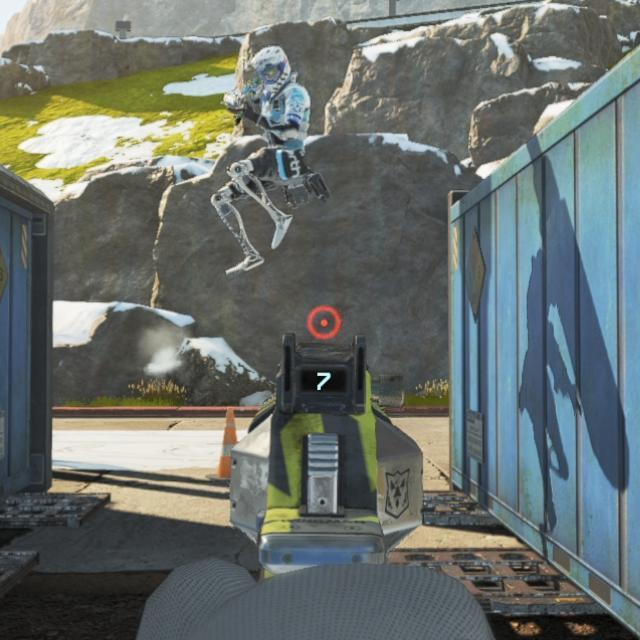avatar: (208, 41, 313, 277)
